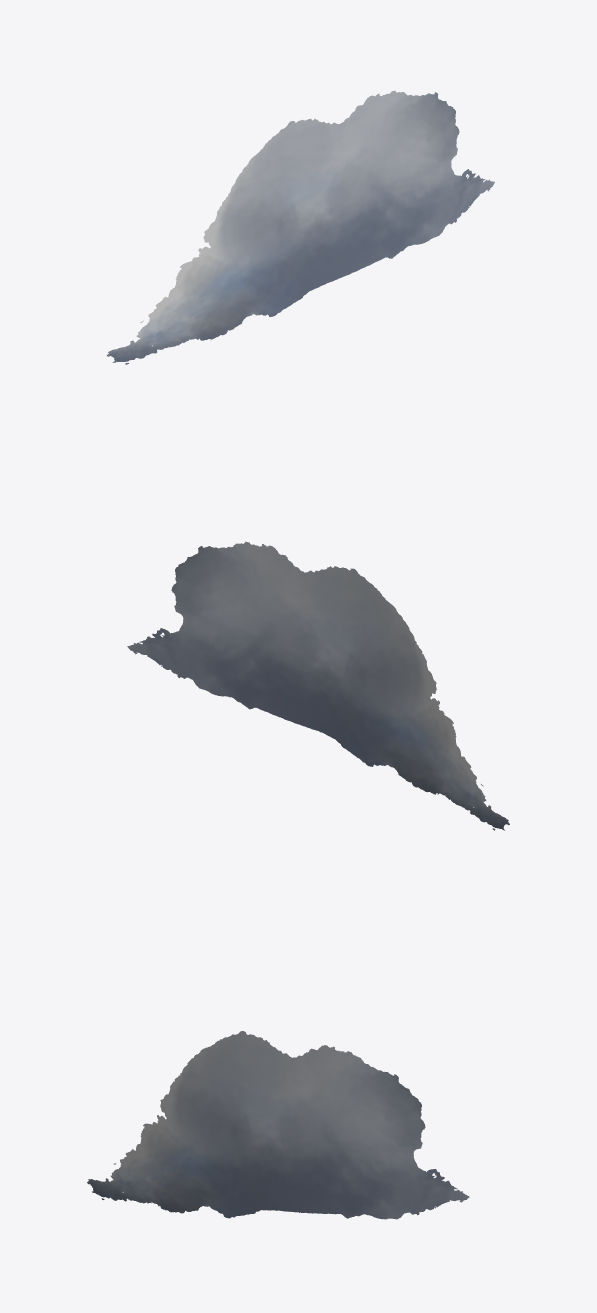
File: cloudD.fbx
The picture shows the model from 3 angles, top to bottom: view 1: azimuth 30°, elevation 25°; view 2: azimuth 150°, elevation 25°; view 3: azimuth 330°, elevation 25°; orthographic projection.
Parts seen in each view (by area): view 1: cloudD; view 2: cloudD; view 3: cloudD.
Part boxes in pixels (x1,y1,x2,y2): cloudD: (106, 90, 494, 364); cloudD: (127, 541, 509, 830); cloudD: (87, 1031, 469, 1219).
Size of the model in its own units: 619 by 358 by 45.85.
1 material, 1 textured.
